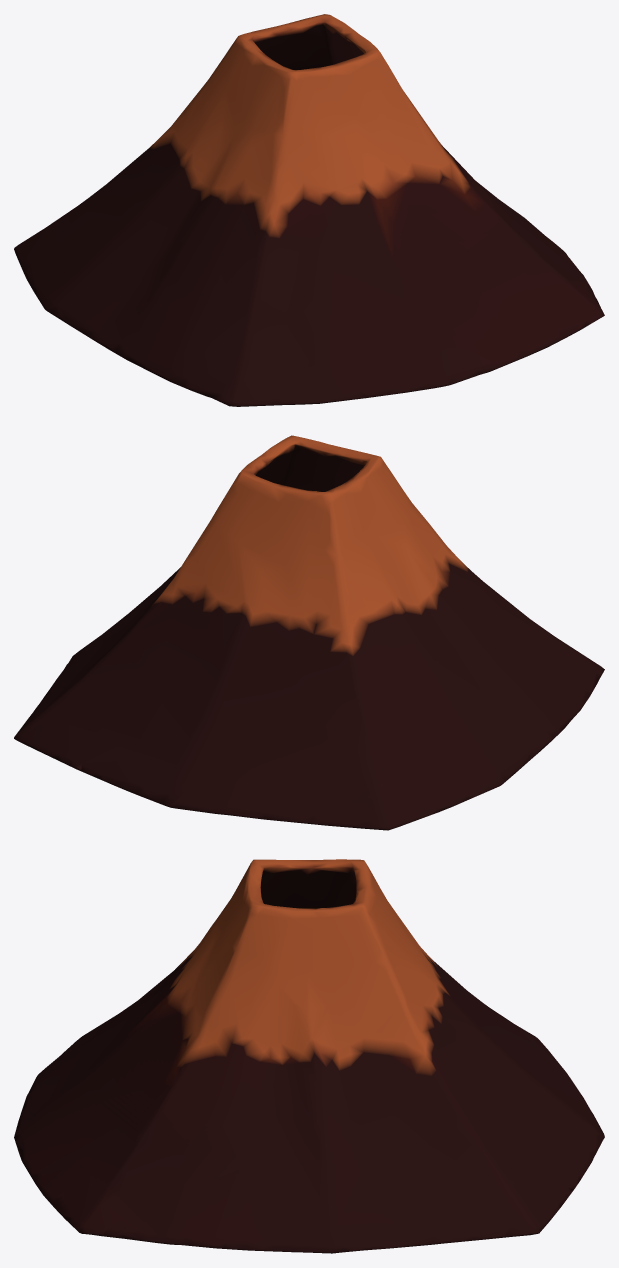
File: gen3d-volcano-lod0.glb
3 renders of one model, top to bottom at view 1: azimuth 30°, elevation 25°; view 2: azimuth 150°, elevation 25°; view 3: azimuth 270°, elevation 25°, orthographic. The views are drawn at different scales.
Visible parts, largest first — view 1: part_0; view 2: part_0; view 3: part_0.
Boxes of the visible parts, bbox=[...] form: part_0: bbox=[14, 14, 604, 406]; part_0: bbox=[14, 435, 604, 830]; part_0: bbox=[14, 859, 604, 1253].
Bounding box in the file's own units: 1.97 × 0.9996 × 2.1.
